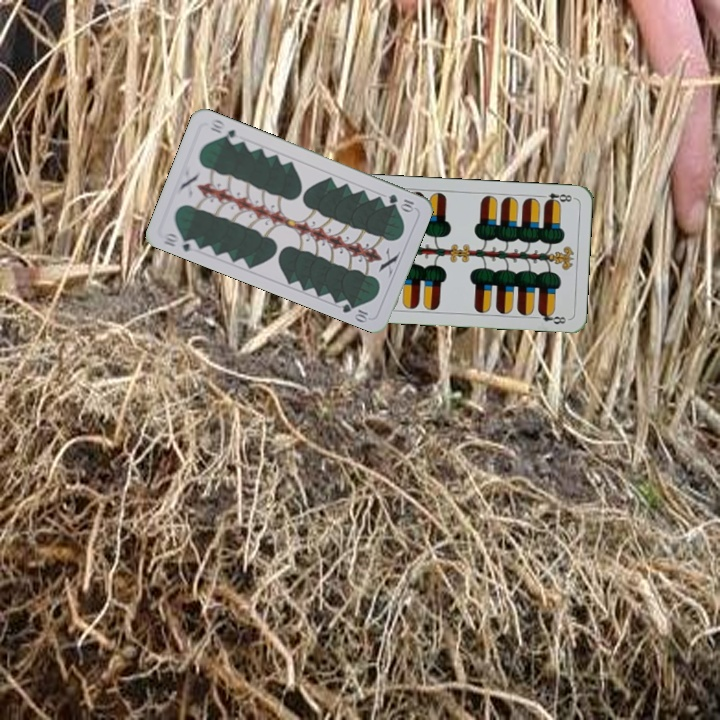E8: (536, 189, 575, 207)
G10: (159, 228, 200, 254), (384, 190, 417, 214)
